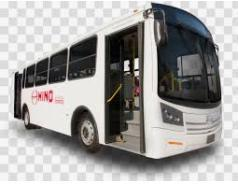bus: (13, 4, 220, 160)
